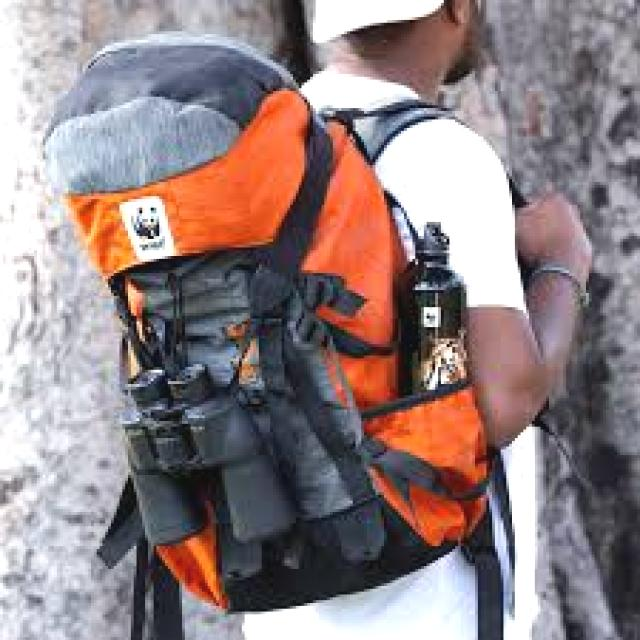backpack: (41, 30, 507, 622)
